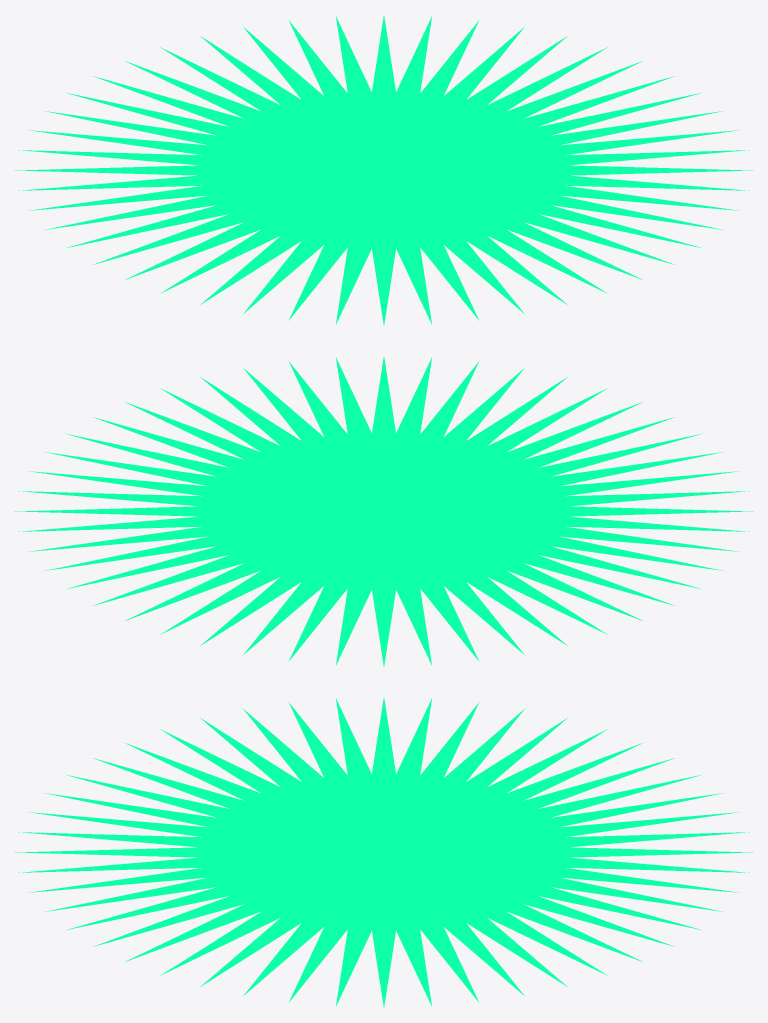
The model's file is four_sphere_hypersphere_ar_universal.glb.
3 renders of one model, top to bottom at view 1: azimuth 30°, elevation 25°; view 2: azimuth 150°, elevation 25°; view 3: azimuth 270°, elevation 25°, orthographic.
Visible parts, largest first — view 1: four_sphere_hypersphere_ar; view 2: four_sphere_hypersphere_ar; view 3: four_sphere_hypersphere_ar.
Part boxes in pixels (x1,y1,x2,y2): four_sphere_hypersphere_ar: [14, 15, 753, 325]; four_sphere_hypersphere_ar: [14, 356, 753, 666]; four_sphere_hypersphere_ar: [14, 697, 753, 1007].
Size of the model in its own units: 1 by 0 by 1.
